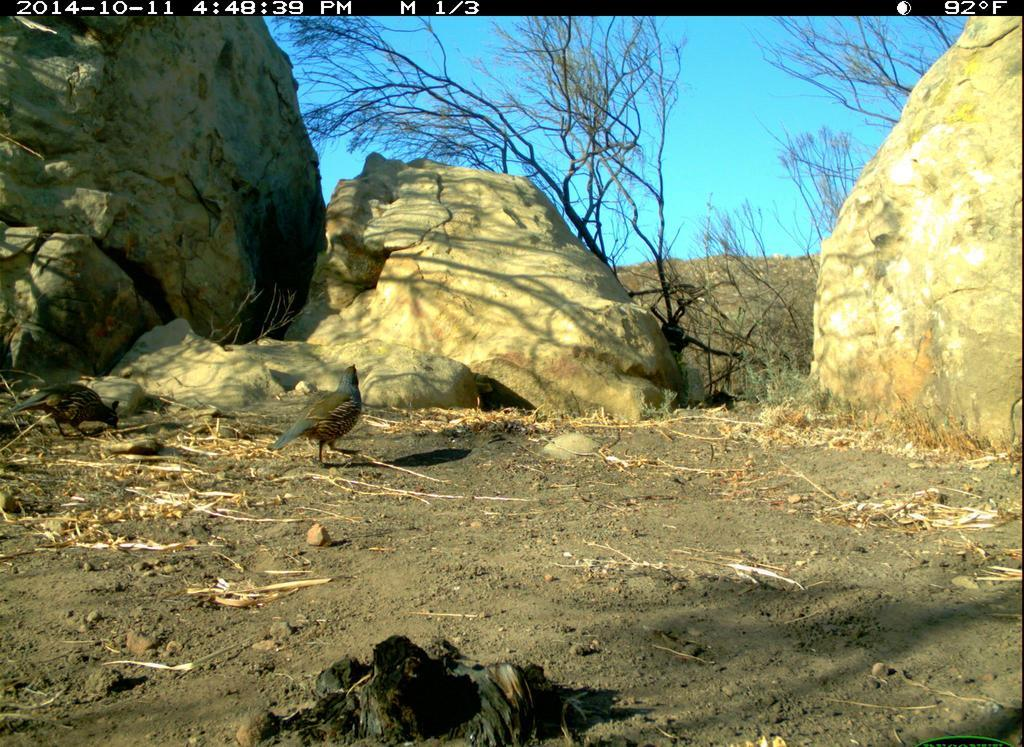bird: (259, 356, 381, 478), (8, 369, 131, 450)
